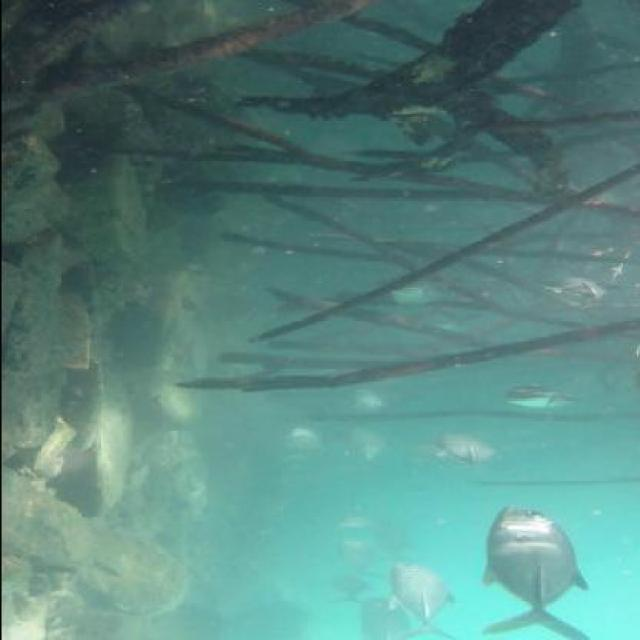Caranx_sexfasciatus_juvenile: (469, 497, 594, 640), (382, 558, 456, 640), (376, 266, 447, 312), (426, 424, 506, 464), (530, 269, 613, 306), (331, 425, 392, 473), (353, 595, 415, 640), (258, 425, 333, 461), (494, 382, 584, 411), (338, 384, 398, 419), (328, 534, 378, 569), (365, 522, 413, 556), (418, 315, 482, 340), (328, 572, 374, 602), (323, 505, 372, 533)
